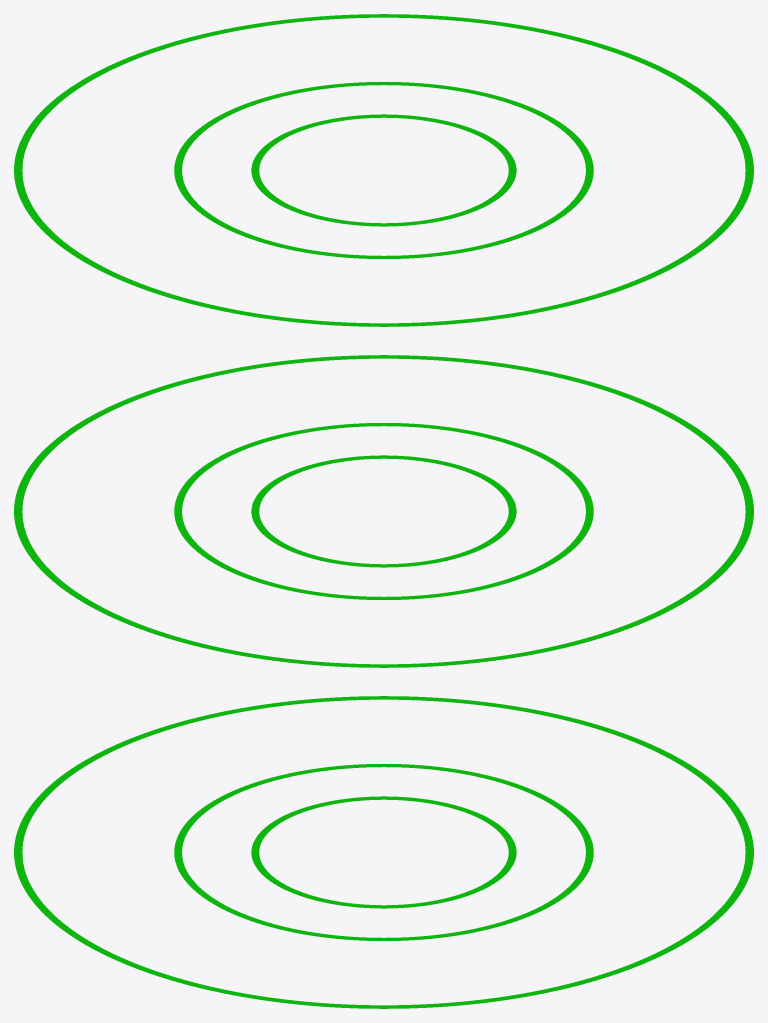
File: ring_3.fbx
3 views of the same model, one above another, from view 1: azimuth 30°, elevation 25°; view 2: azimuth 150°, elevation 25°; view 3: azimuth 270°, elevation 25° (orthographic).
Visible parts, largest first — view 1: r3; view 2: r3; view 3: r3.
Part boxes in pixels (x1,y1,x2,y2): r3: (14, 14, 753, 326); r3: (14, 355, 753, 667); r3: (14, 696, 753, 1008).
Size of the model in its own units: 818 by 0 by 818.
